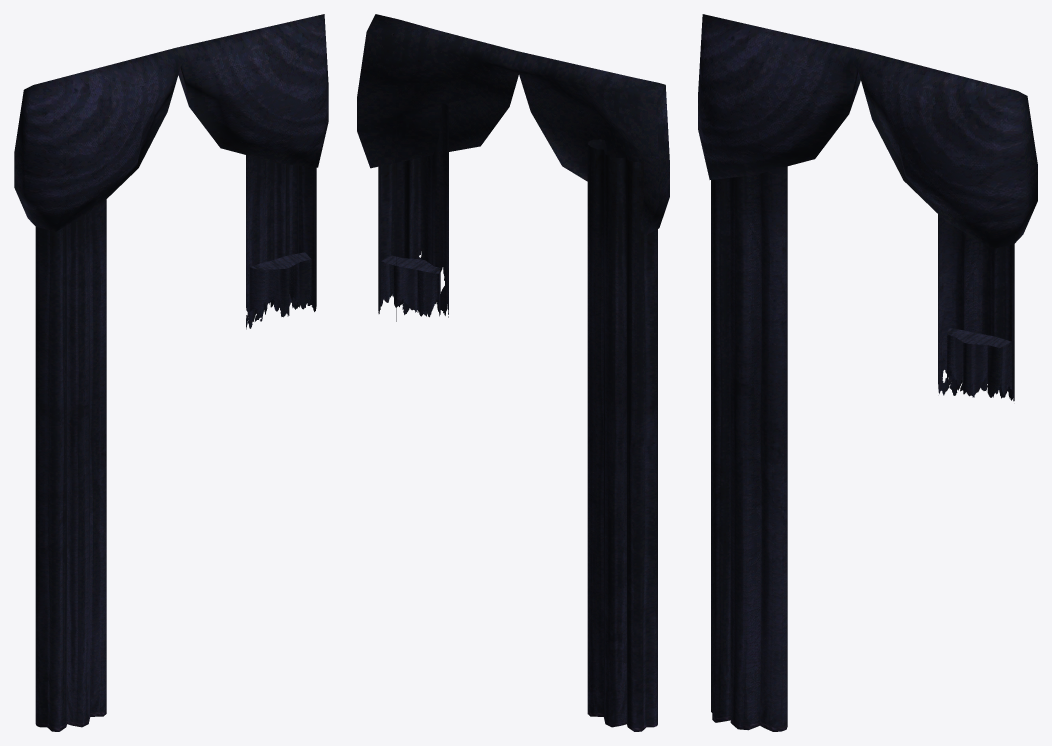
The model's file is curtain04_long_broken02.dae.
3 renders of one model, left to right at view 1: azimuth 30°, elevation 25°; view 2: azimuth 150°, elevation 25°; view 3: azimuth 330°, elevation 25°, orthographic. The views are drawn at different scales.
Visible parts, largest first — view 1: polySurface198, polySurface193, polySurface192; view 2: polySurface198, polySurface193, polySurface192; view 3: polySurface198, polySurface193, polySurface192.
Boxes of the visible parts, x1,y1,x2,y2 form: polySurface198: (14,14,328,731); polySurface193: (246,155,316,329); polySurface192: (249,252,311,317); polySurface198: (357,14,669,731); polySurface193: (378,100,448,321); polySurface192: (381,255,440,317); polySurface198: (698,14,1037,731); polySurface193: (938,214,1014,401); polySurface192: (947,328,1011,397).
Size of what is drawn, in the model's own units: 2.5 by 5.08 by 0.4673.
